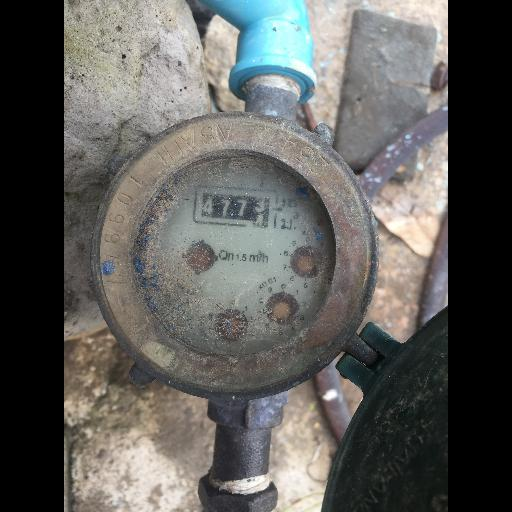3: (253, 196, 270, 228)
4: (201, 192, 218, 218)
7: (233, 195, 251, 220), (217, 193, 234, 219)
border_water_meter_number: (193, 185, 279, 230)
